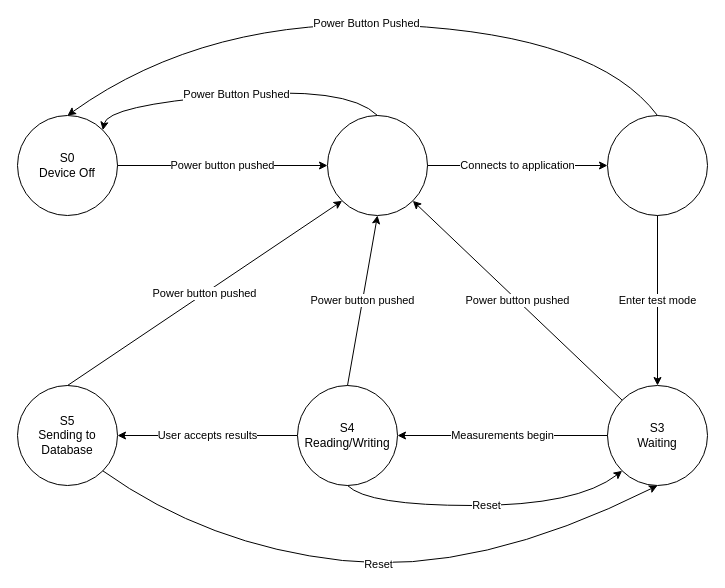
The diagram is 725 pixels wide and 588 high, and some of its shapes have lost their labels. The centre of each missing label's shape, as x and y in pixels:
"S1 Device On" goes at (x=377, y=165).
"S2 Connected to Application" goes at (x=657, y=165).
